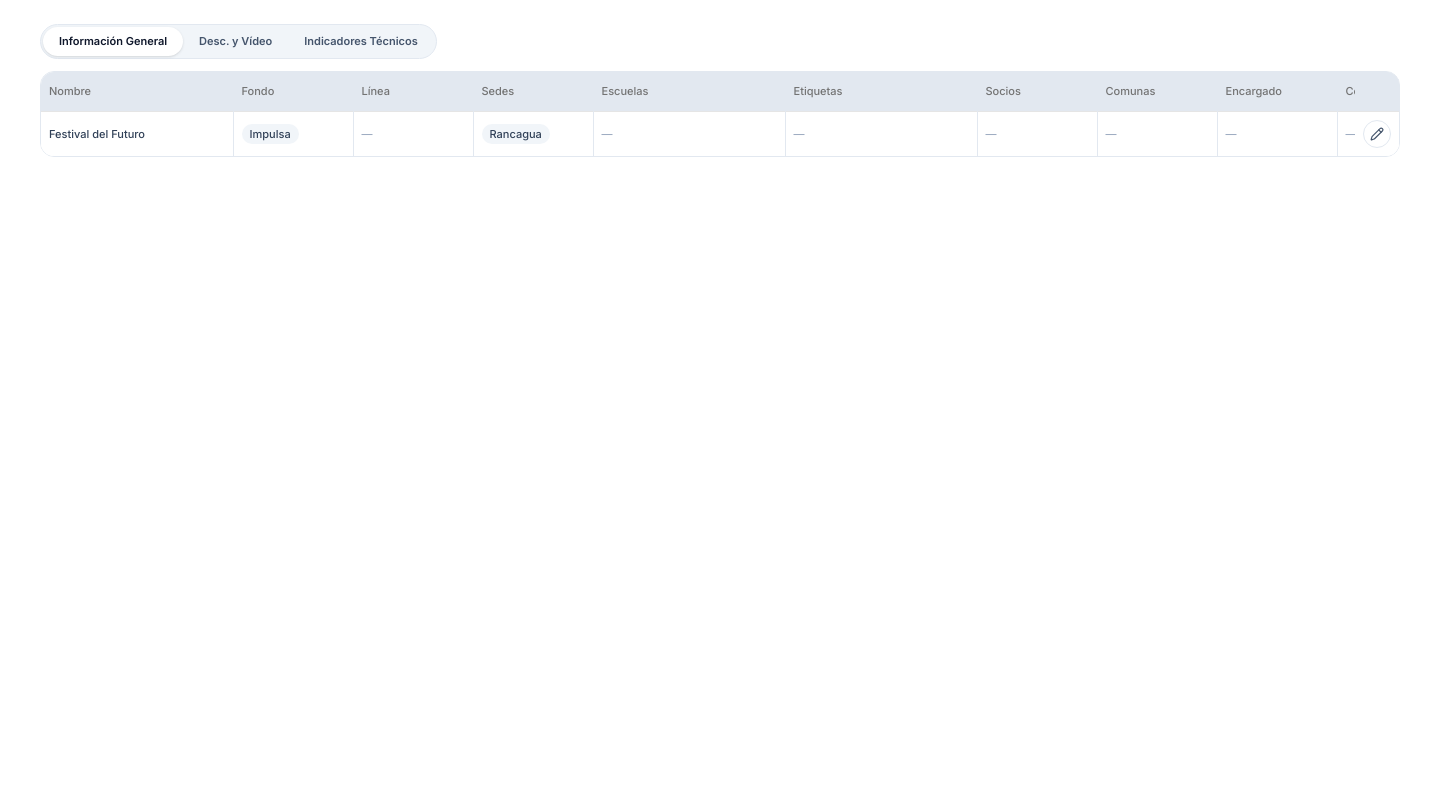
Scenario: VitrinaProjectsTable › por defecto muestra Información General sin descripción ni vídeo
The width and height of the screenshot is (1440, 810).
Expected: the text "Festival del Futuro" is shown, [41, 112, 233, 156]
Expected: the column heading "Fondo" is shown, [233, 72, 353, 112]
Click the button named "Editar Festival del Futuro" at (1376, 134), box [1362, 120, 1390, 148]
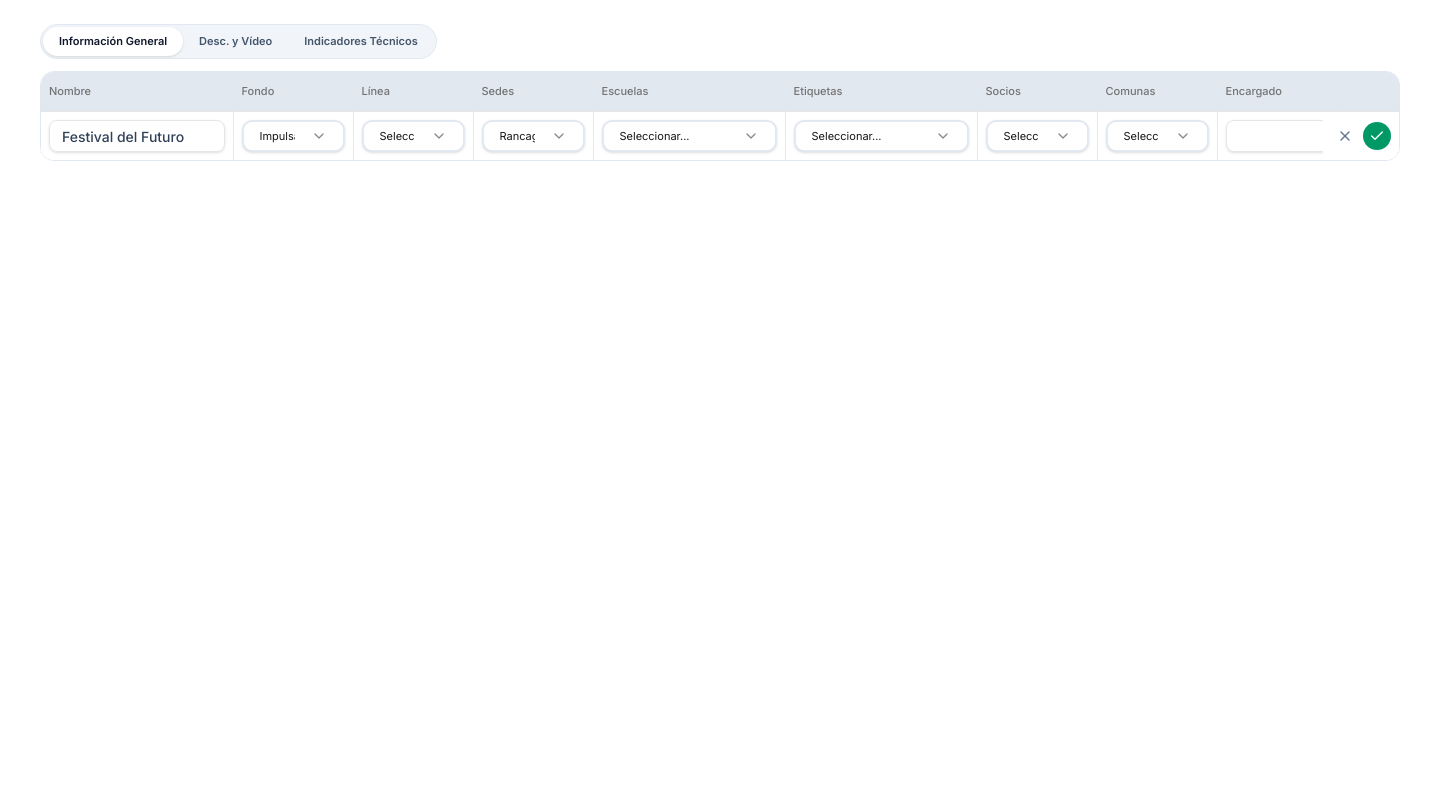
Expected: the button named "Guardar fila" is shown, [1362, 122, 1390, 150]
